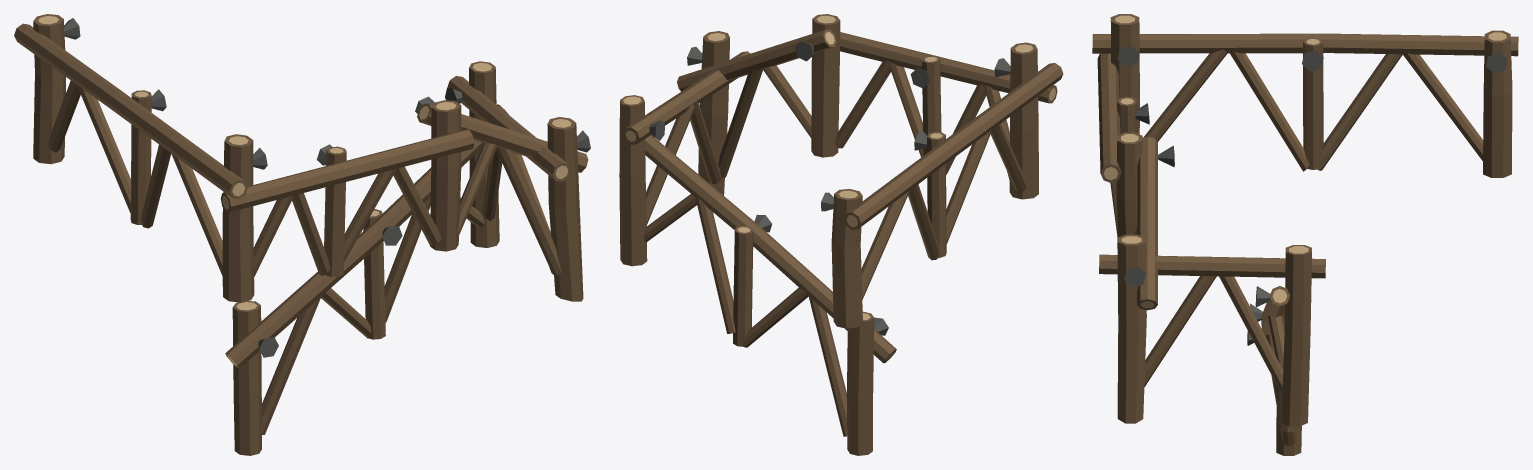
The model's file is rpgpp_ag_stairs_interior_02d_3m_handrail_02.fbx.
The picture shows the model from 3 angles, left to right: view 1: azimuth 30°, elevation 25°; view 2: azimuth 150°, elevation 25°; view 3: azimuth 270°, elevation 25°; orthographic projection. The views are drawn at different scales.
Visible parts, largest first — view 1: rpgpp_ag_stairs_interior_02d_3m_handrail_02; view 2: rpgpp_ag_stairs_interior_02d_3m_handrail_02; view 3: rpgpp_ag_stairs_interior_02d_3m_handrail_02.
Boxes of the visible parts, x1=… form: rpgpp_ag_stairs_interior_02d_3m_handrail_02: x1=14, y1=14, x2=590, y2=455; rpgpp_ag_stairs_interior_02d_3m_handrail_02: x1=619, y1=14, x2=1063, y2=455; rpgpp_ag_stairs_interior_02d_3m_handrail_02: x1=1092, y1=14, x2=1518, y2=455.
Size of the model in its own units: 4.51 by 4.41 by 4.4.
